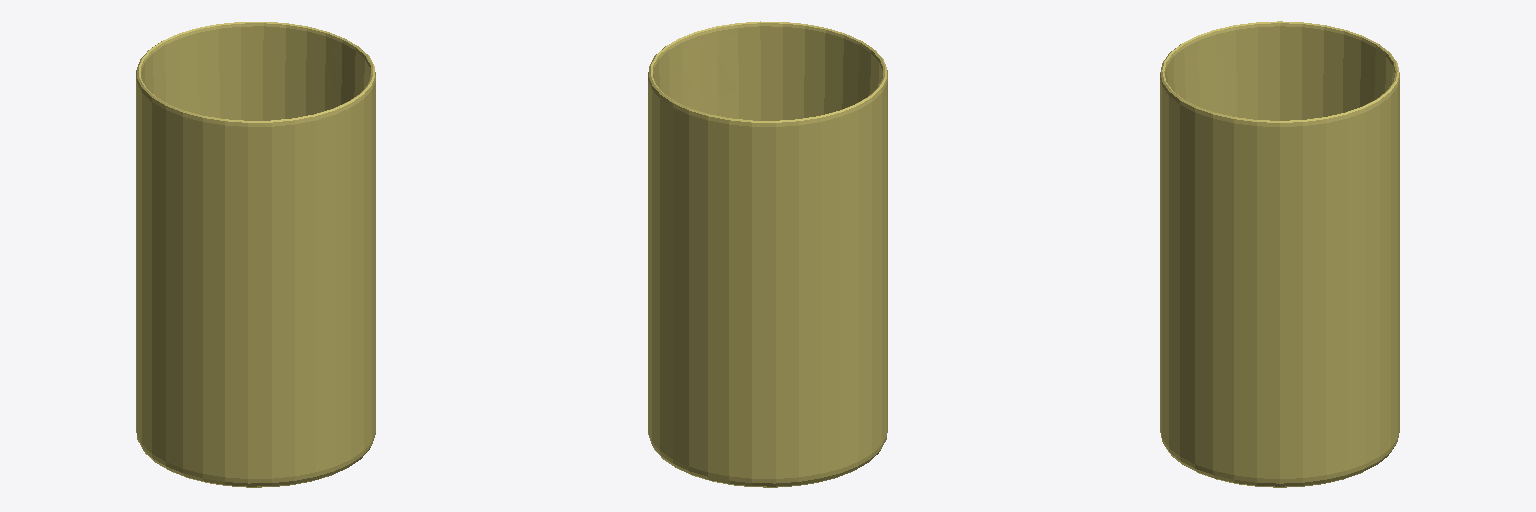
The model's file is vaso.obj.
3 views of the same model, side by side, from view 1: azimuth 30°, elevation 25°; view 2: azimuth 150°, elevation 25°; view 3: azimuth 270°, elevation 25° (orthographic).
Visible parts, largest first — view 1: vaso:DOF_Glasswaregroup100pasted__group8group9; view 2: vaso:DOF_Glasswaregroup100pasted__group8group9; view 3: vaso:DOF_Glasswaregroup100pasted__group8group9.
Part boxes in pixels (left/top/right/bottom): vaso:DOF_Glasswaregroup100pasted__group8group9: left=136, top=22, right=375, bottom=487; vaso:DOF_Glasswaregroup100pasted__group8group9: left=648, top=21, right=887, bottom=487; vaso:DOF_Glasswaregroup100pasted__group8group9: left=1160, top=21, right=1399, bottom=487.
Bounding box in the file's own units: 0.0907 × 0.1536 × 0.0907.